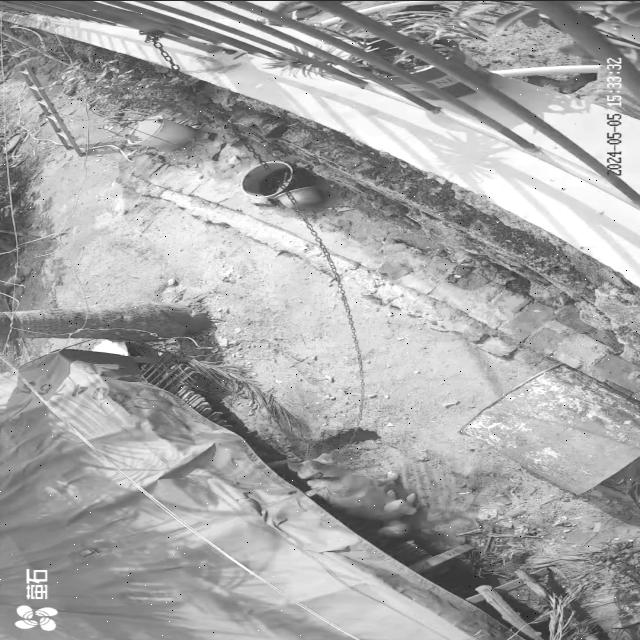dog: (285, 453, 420, 539)
